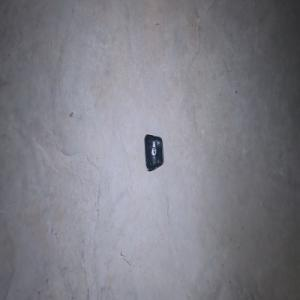LuggagePart: (144, 133, 163, 172)
